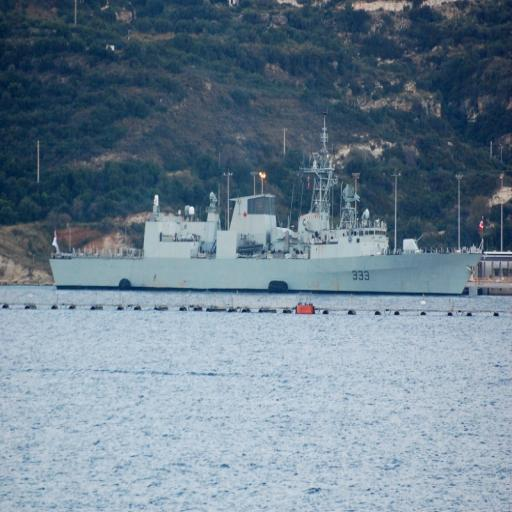Fragata: (45, 113, 487, 293)
